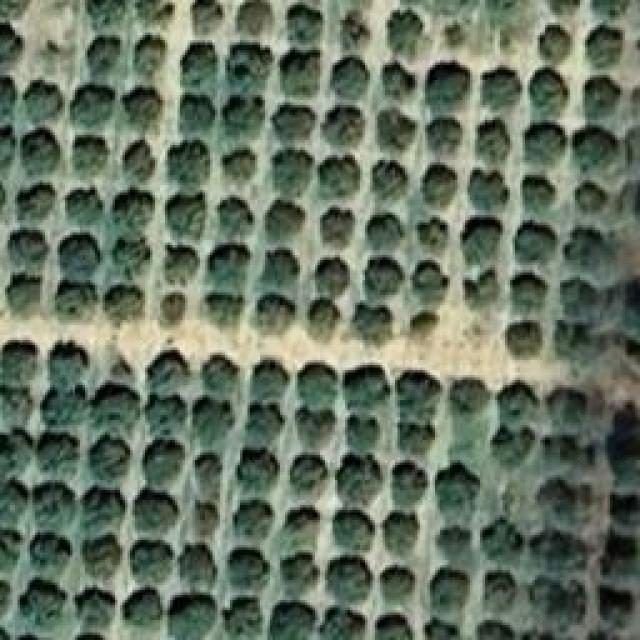Tree: (602, 400, 640, 478), (287, 7, 333, 65), (328, 550, 376, 605), (450, 378, 496, 432), (98, 385, 147, 432), (17, 130, 62, 180), (590, 583, 640, 628), (530, 583, 577, 630), (168, 592, 214, 640), (222, 93, 267, 142), (215, 592, 260, 640), (595, 532, 640, 580), (67, 80, 111, 129), (438, 460, 478, 513), (90, 437, 137, 482), (230, 502, 277, 547), (332, 503, 377, 550), (277, 108, 321, 156), (268, 598, 318, 640), (178, 40, 218, 92), (428, 60, 468, 112), (275, 550, 322, 594), (198, 360, 251, 399), (345, 360, 384, 413), (460, 267, 503, 314), (478, 515, 525, 558), (290, 48, 330, 98), (287, 458, 332, 502), (277, 503, 323, 546), (135, 485, 176, 533), (225, 45, 263, 96), (42, 338, 87, 381), (118, 587, 161, 632), (555, 322, 601, 364), (470, 165, 511, 212), (343, 415, 390, 456), (208, 235, 248, 283), (363, 255, 403, 303), (200, 398, 234, 454), (393, 462, 435, 507), (530, 70, 571, 116), (58, 283, 101, 326), (240, 401, 283, 444), (320, 158, 365, 199), (38, 482, 78, 528), (0, 337, 39, 384), (580, 77, 619, 124), (540, 530, 579, 577), (528, 123, 566, 171), (218, 195, 256, 242), (364, 205, 406, 247), (25, 80, 66, 123), (105, 285, 146, 328), (373, 160, 414, 203), (510, 225, 550, 269), (25, 577, 64, 622), (83, 532, 122, 577), (292, 403, 339, 440), (110, 235, 152, 276), (503, 320, 544, 362), (42, 385, 86, 424), (393, 7, 430, 53), (33, 532, 70, 578), (175, 135, 209, 185), (70, 138, 105, 186), (58, 238, 98, 280), (343, 458, 385, 498), (475, 68, 518, 107), (115, 188, 153, 232), (473, 120, 513, 161), (128, 538, 168, 579), (80, 490, 119, 532), (233, 0, 276, 38), (560, 275, 598, 318), (495, 425, 538, 463), (580, 122, 615, 168), (222, 550, 268, 585), (353, 303, 392, 344), (601, 487, 640, 528), (378, 515, 415, 558), (68, 187, 104, 231), (578, 178, 618, 217), (515, 178, 554, 218), (338, 60, 373, 104), (188, 450, 222, 495), (380, 108, 418, 148), (250, 358, 288, 398), (265, 200, 301, 242), (153, 396, 189, 438), (540, 23, 576, 65), (547, 437, 592, 470), (565, 233, 603, 272), (503, 385, 538, 427), (423, 113, 461, 151), (300, 365, 338, 403), (0, 382, 30, 430), (143, 443, 178, 484), (187, 497, 221, 539), (592, 23, 625, 66), (203, 293, 240, 331), (548, 488, 586, 525), (265, 153, 305, 188), (20, 183, 54, 224), (310, 260, 344, 301), (403, 370, 437, 411), (337, 13, 371, 54), (430, 570, 460, 616), (130, 35, 166, 73), (38, 435, 73, 474), (170, 198, 204, 238), (512, 278, 544, 320), (130, 90, 161, 133), (178, 548, 212, 587), (616, 271, 640, 325), (255, 298, 292, 333), (80, 593, 115, 630), (162, 250, 196, 288), (88, 33, 121, 72), (376, 60, 408, 100), (0, 483, 28, 528), (550, 390, 585, 426), (238, 448, 272, 485), (377, 565, 409, 604), (423, 163, 451, 206), (0, 430, 28, 473), (395, 425, 430, 459), (180, 98, 210, 137), (0, 20, 22, 73), (411, 258, 438, 301), (122, 148, 156, 182), (10, 227, 44, 261), (407, 307, 441, 341), (462, 215, 495, 250), (322, 607, 357, 640), (485, 575, 520, 608), (153, 357, 189, 389), (10, 273, 40, 311), (328, 103, 358, 141), (225, 148, 255, 184), (373, 613, 413, 640), (158, 293, 184, 334), (0, 530, 23, 576), (190, 0, 224, 31), (326, 213, 354, 250), (265, 250, 295, 284), (88, 0, 128, 25), (439, 17, 466, 52), (440, 532, 467, 566), (621, 174, 640, 222), (423, 615, 459, 639), (418, 216, 446, 246), (140, 0, 171, 27), (314, 303, 344, 330), (0, 75, 16, 123), (481, 615, 508, 640), (0, 125, 13, 176)
